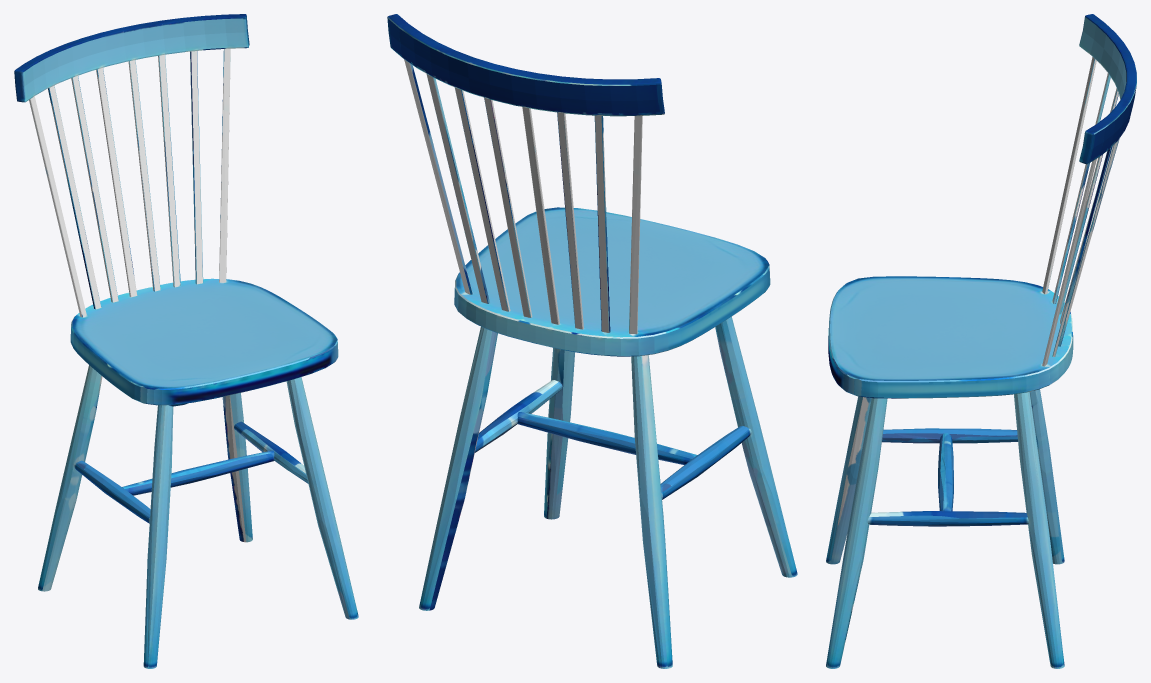
File: edited_mesh.glb
3 renders of one model, left to right at view 1: azimuth 30°, elevation 25°; view 2: azimuth 150°, elevation 25°; view 3: azimuth 270°, elevation 25°, orthographic. The views are drawn at different scales.
Visible parts, largest first — view 1: normalized_model.obj; view 2: normalized_model.obj; view 3: normalized_model.obj.
Boxes of the visible parts, bbox=[...] form: normalized_model.obj: bbox=[14, 14, 358, 668]; normalized_model.obj: bbox=[387, 14, 797, 668]; normalized_model.obj: bbox=[826, 14, 1136, 668].
Bounding box in the file's own units: 0.7566 × 1.59 × 0.8261.
Materials: 1 (1 with a texture image).
